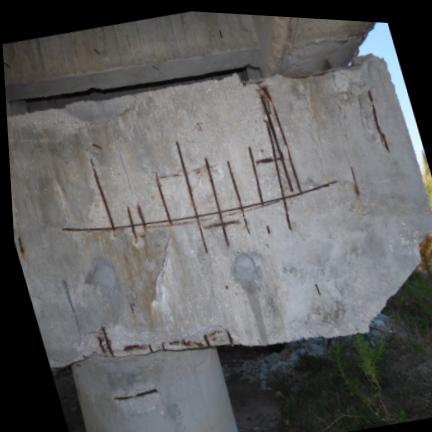Exposed Rebar: (117, 89, 337, 251), (58, 157, 116, 232)
crack: (23, 130, 75, 143), (160, 234, 170, 280), (106, 108, 127, 123), (125, 165, 132, 188), (115, 133, 121, 154), (155, 274, 160, 292), (188, 102, 191, 124), (121, 154, 125, 165), (152, 292, 155, 304), (186, 124, 188, 140), (92, 122, 106, 124)
pier bridge: (70, 348, 239, 432)
pier cap: (7, 57, 430, 368)
